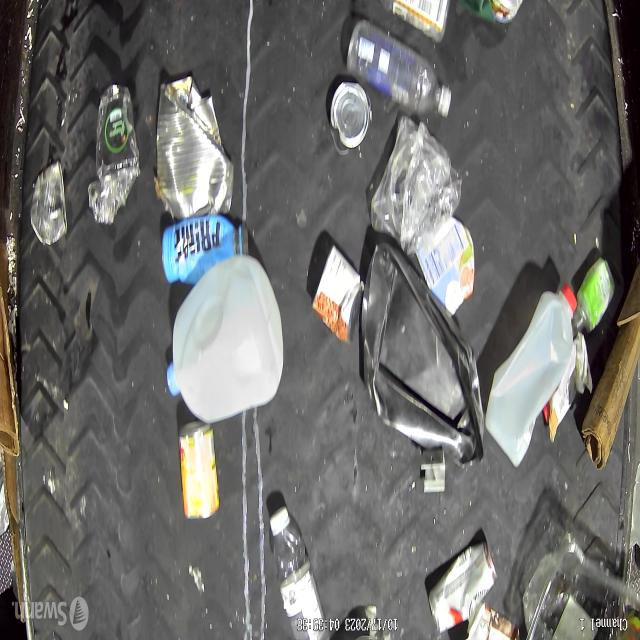can: (153, 79, 232, 221), (428, 541, 497, 633), (312, 244, 362, 347), (178, 421, 220, 522), (28, 158, 69, 248), (328, 80, 370, 152)
milk_jug: (166, 256, 283, 425), (483, 287, 573, 467)
non_white_jug: (362, 240, 485, 468)
plastic_bottle: (345, 20, 453, 121), (270, 505, 326, 640)
